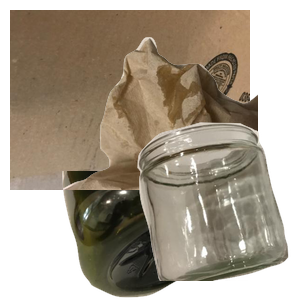cardboard: (10, 10, 250, 190)
glass: (135, 120, 300, 300)
plastic: (60, 171, 300, 300)
trash: (60, 35, 300, 215)
